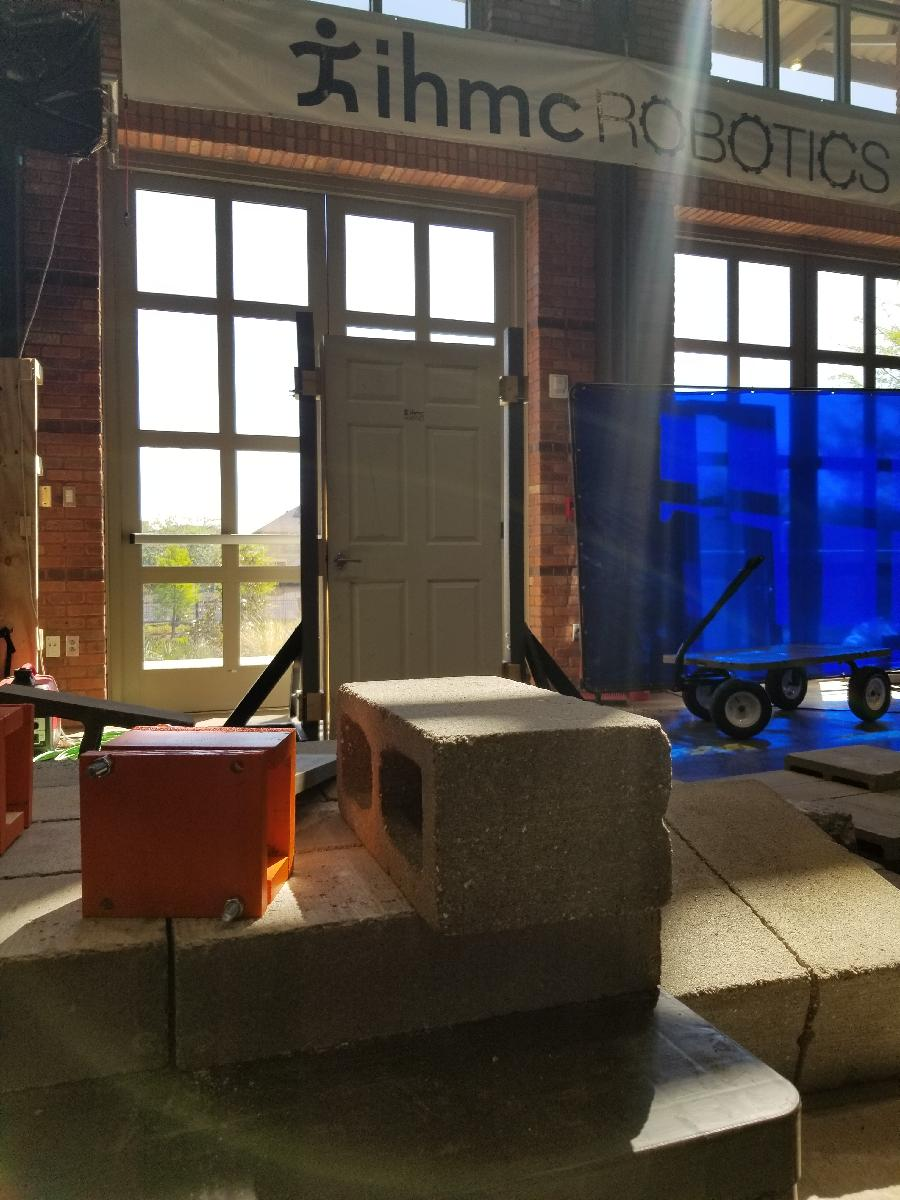door: (314, 335, 513, 779)
doorHandle: (330, 548, 369, 580)
